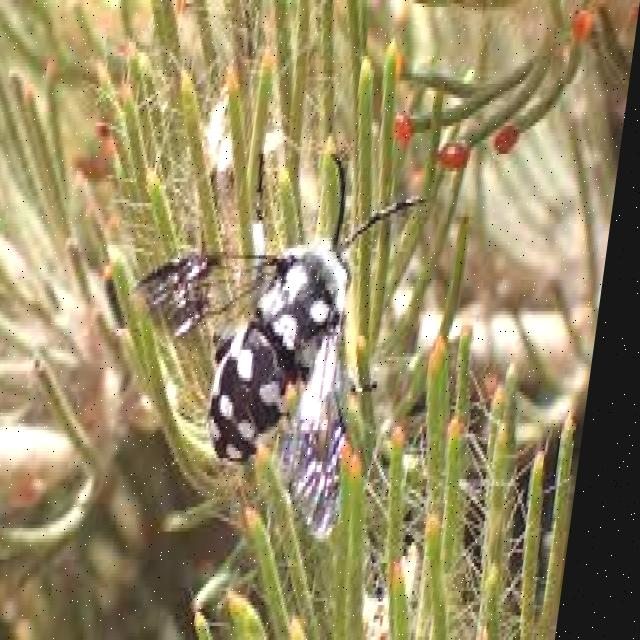Thyreus: (146, 128, 448, 532)
